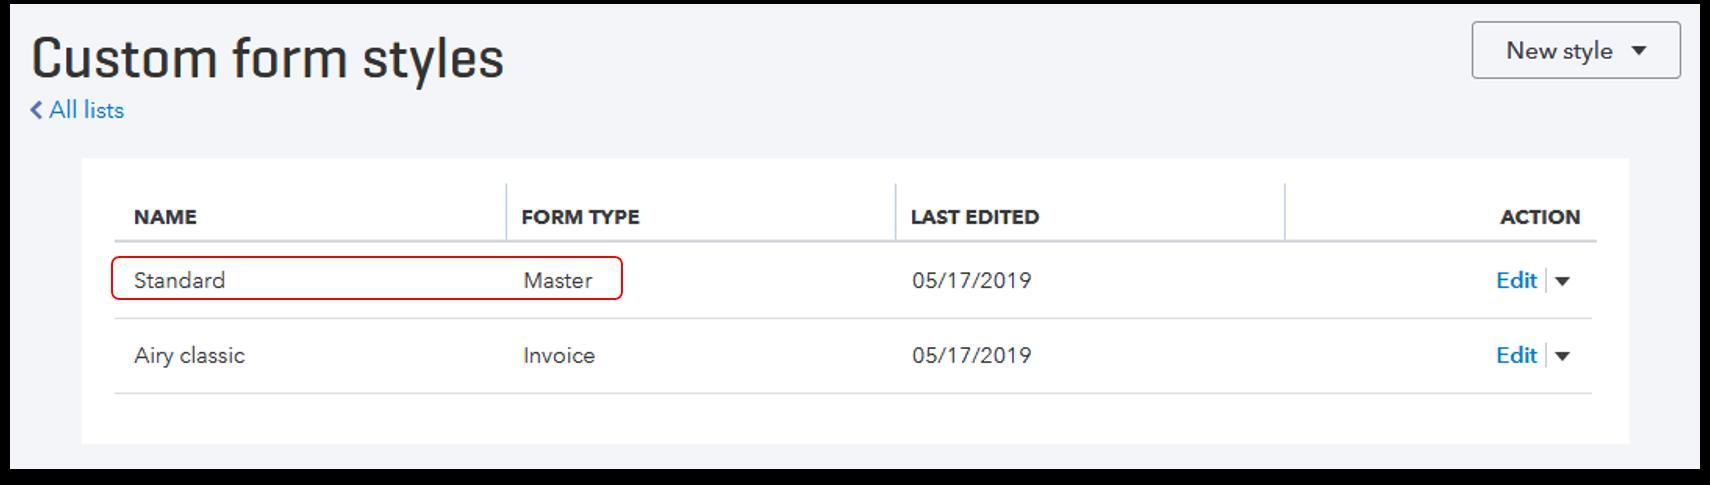dropdown: (1471, 23, 1685, 82)
label: (35, 31, 506, 96), (906, 206, 1053, 232), (516, 204, 646, 232), (1495, 204, 1589, 231), (124, 202, 207, 232)
table: (113, 184, 1595, 396)
